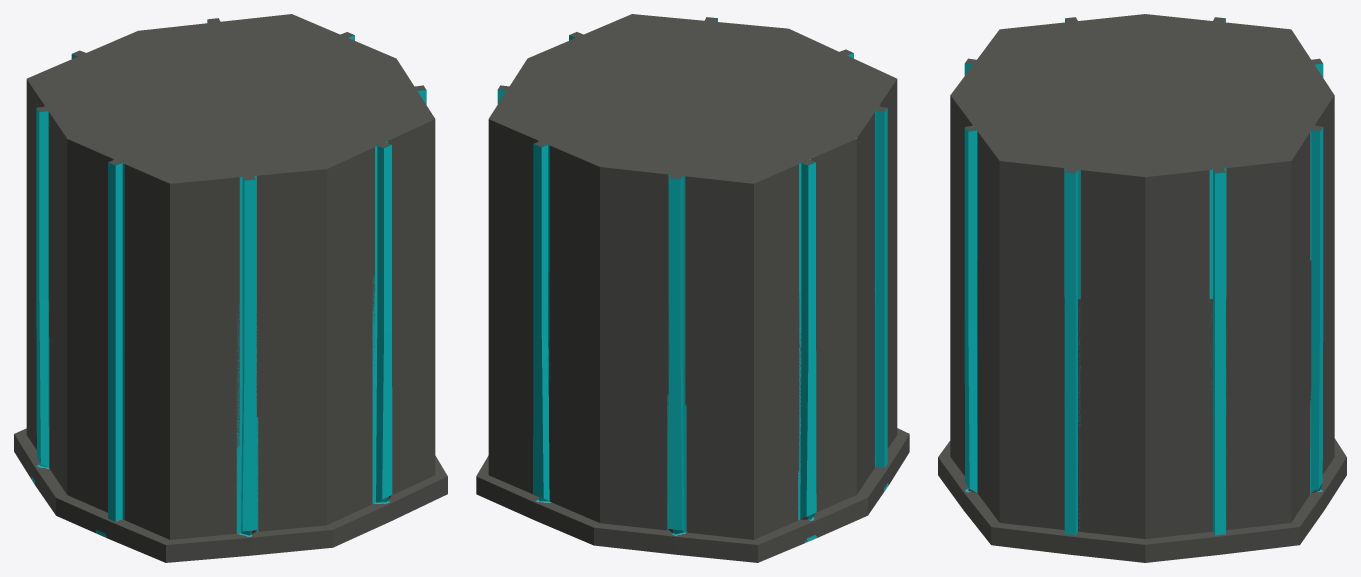
Rendered from piston_character_select.fbx.
3 renders of one model, left to right at view 1: azimuth 30°, elevation 25°; view 2: azimuth 150°, elevation 25°; view 3: azimuth 270°, elevation 25°, orthographic.
Visible parts, largest first — view 1: character_platform.001; view 2: character_platform.001; view 3: character_platform.001.
Part boxes in pixels (<box>): character_platform.001: <box>14,14,447,562</box>; character_platform.001: <box>476,14,909,562</box>; character_platform.001: <box>938,14,1346,562</box>.
Bounding box in the file's own units: 411 × 417 × 407.
Materials: 1 (1 with a texture image).
